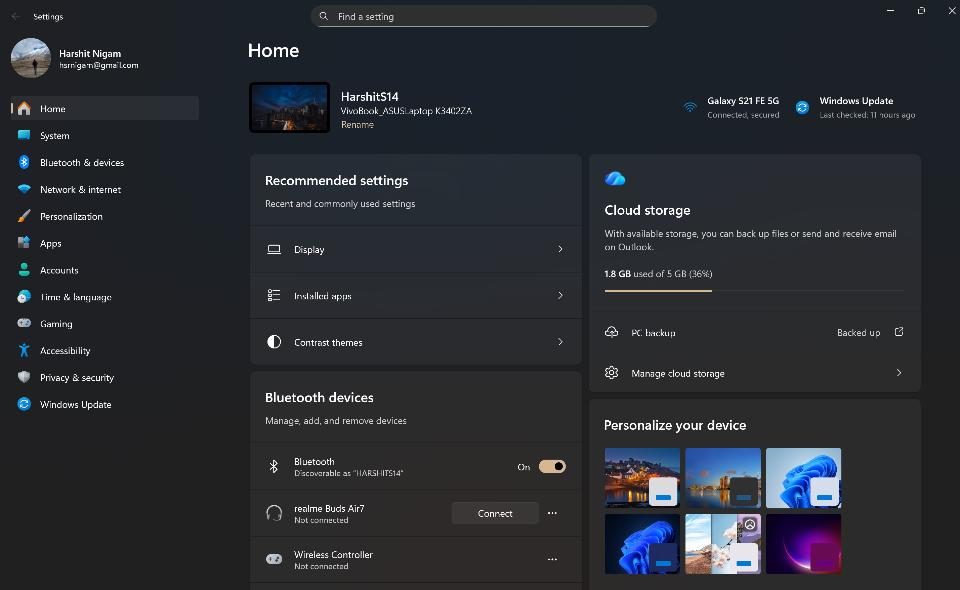close_button: (943, 4, 959, 17)
maximize_button: (909, 3, 936, 19)
minimize_button: (880, 3, 900, 16)
